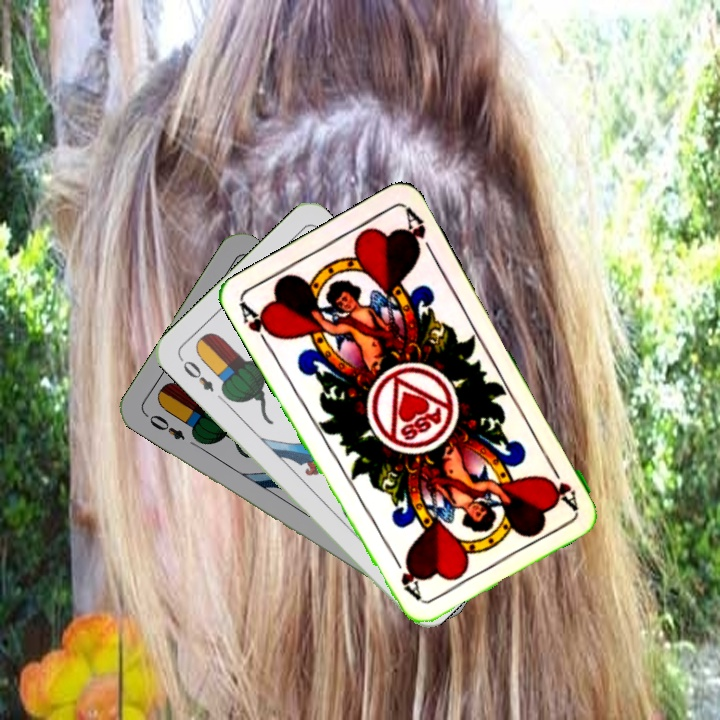EO: (175, 353, 217, 395), (141, 409, 188, 443)
HA: (235, 298, 280, 352), (543, 457, 581, 512)
